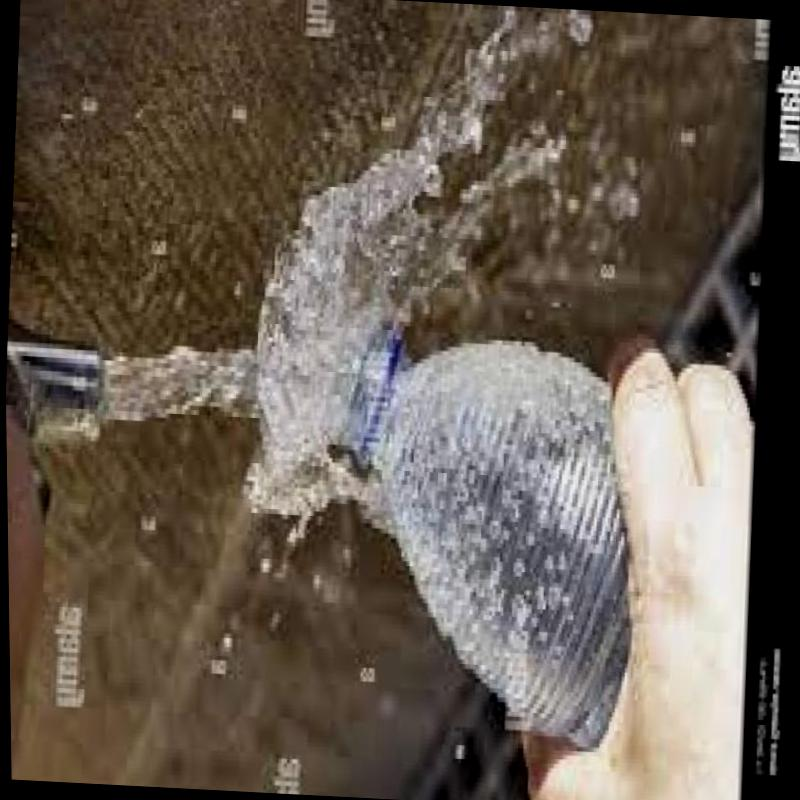botella: (318, 322, 642, 752)
